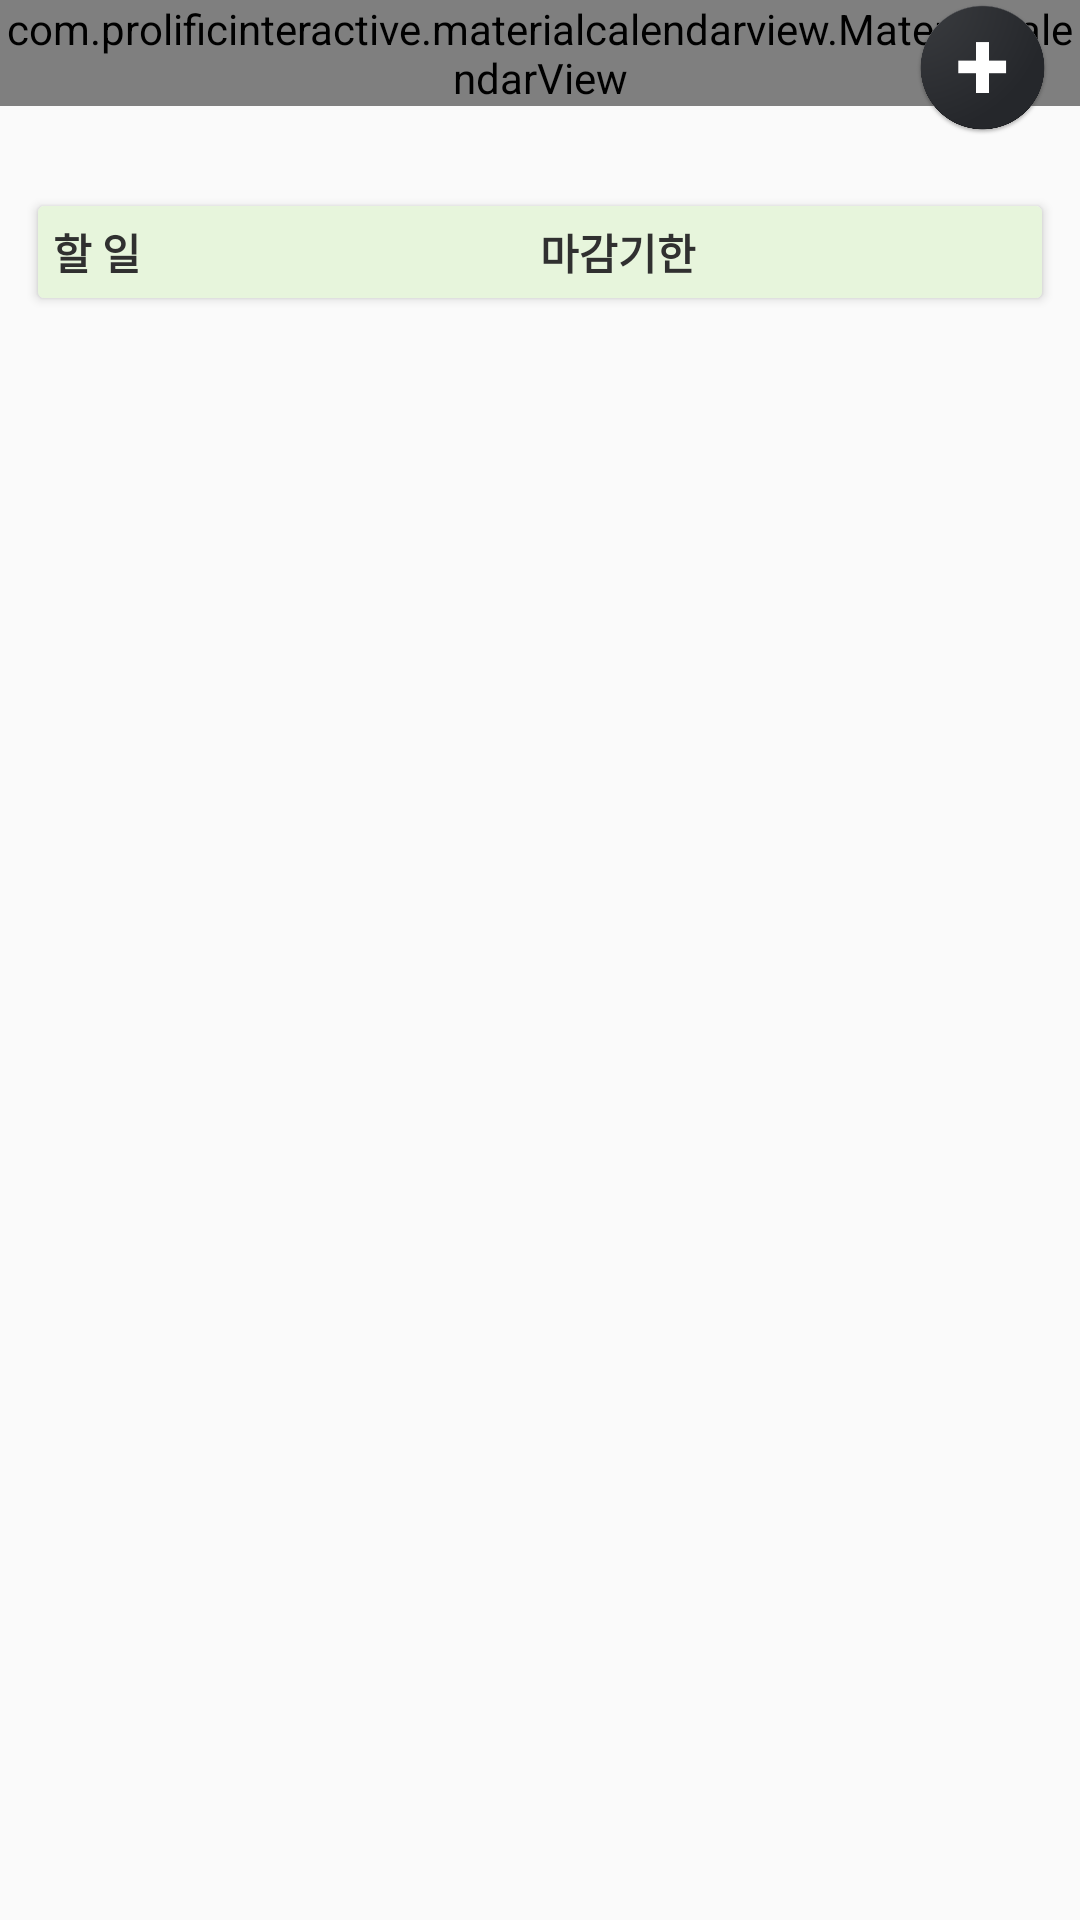

Where to tap for icons on this 1080 × 1920 app screen, as [x,y]:
addbutton states: [982,67]
